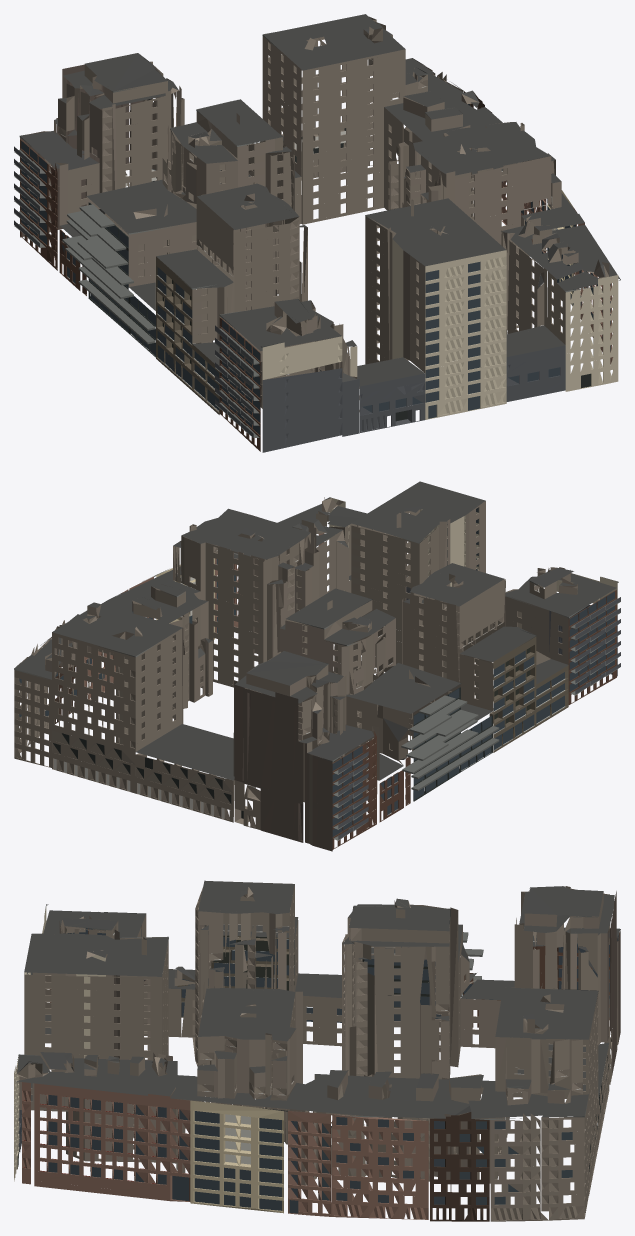
File: westerdoksdijk-215.lod1.glb
The picture shows the model from 3 angles, top to bottom: view 1: azimuth 30°, elevation 25°; view 2: azimuth 150°, elevation 25°; view 3: azimuth 270°, elevation 25°; orthographic projection. The views are drawn at different scales.
Parts seen in each view (by area): view 1: westerdoksdijk-215; view 2: westerdoksdijk-215; view 3: westerdoksdijk-215.
Boxes of the visible parts, x1,y1,x2,y2 form: westerdoksdijk-215: (14,14,620,452); westerdoksdijk-215: (14,481,620,851); westerdoksdijk-215: (14,880,620,1221).
Bounding box in the file's own units: 99.12 × 38.97 × 120.
